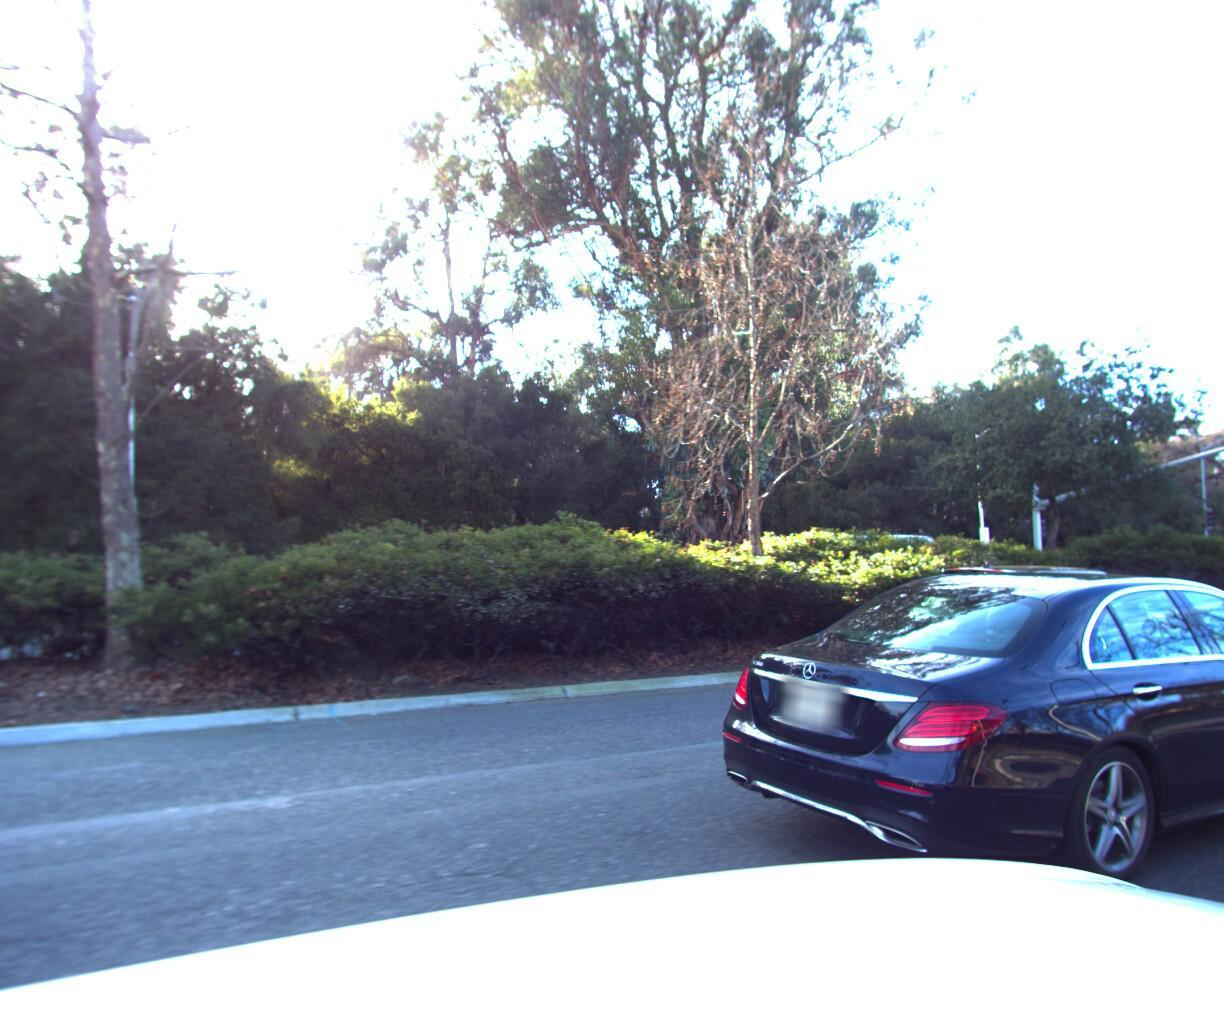car: (674, 559, 1224, 959), (878, 555, 1192, 707)
